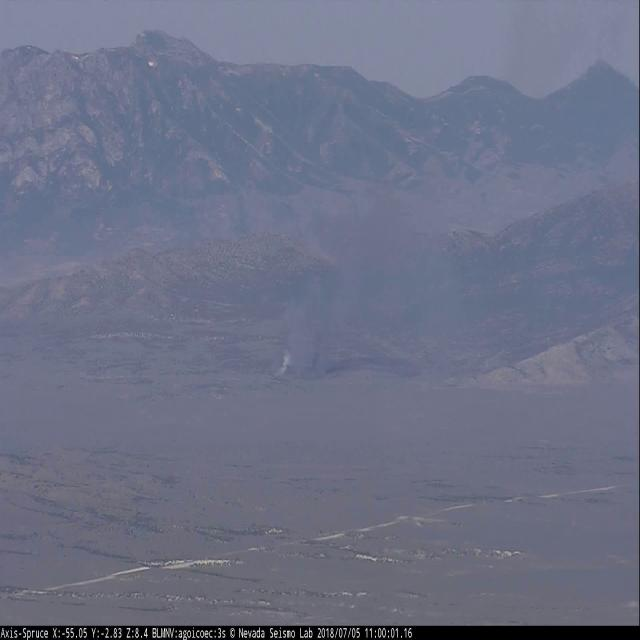smoke: (254, 164, 497, 388)
